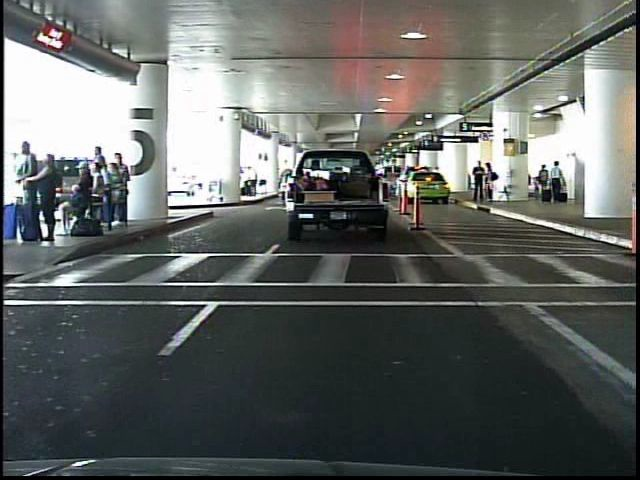person: (471, 157, 487, 206), (483, 163, 499, 202)
